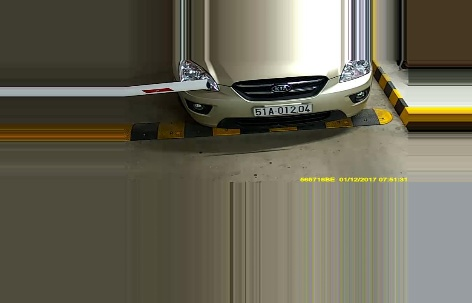plate: (250, 102, 314, 117)
